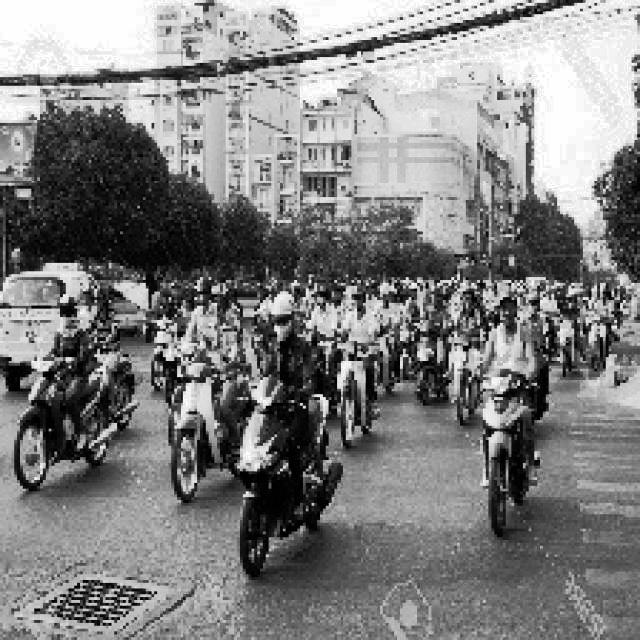Bike: (240, 366, 336, 568), (11, 359, 117, 484), (482, 355, 541, 521), (166, 352, 228, 499), (339, 341, 386, 444)
